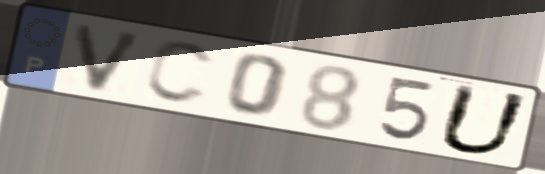0: (223, 51, 291, 120)
5: (377, 73, 438, 143)
8: (297, 63, 366, 135)
C: (141, 39, 219, 107)
U: (433, 80, 535, 157)
V: (71, 20, 152, 96)
